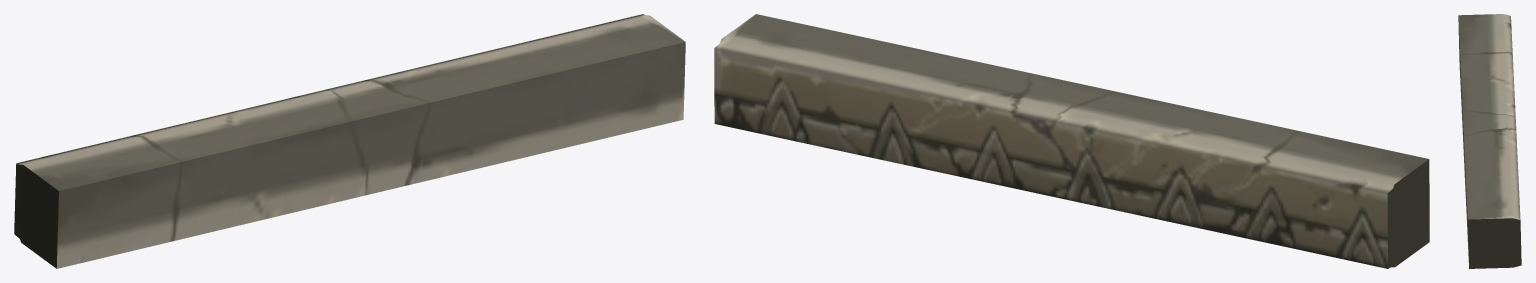
The model's file is mural bottom edge.fbx.
The picture shows the model from 3 angles, left to right: view 1: azimuth 30°, elevation 25°; view 2: azimuth 150°, elevation 25°; view 3: azimuth 270°, elevation 25°; orthographic projection. The views are drawn at different scales.
Parts seen in each view (by area): view 1: pCube7; view 2: pCube7; view 3: pCube7.
Boxes of the visible parts, left/top/right/bottom form: pCube7: left=14, top=14, right=685, bottom=268; pCube7: left=714, top=14, right=1429, bottom=268; pCube7: left=1458, top=14, right=1521, bottom=268.
Bounding box in the file's own units: 49.38 × 6.71 × 6.67.
